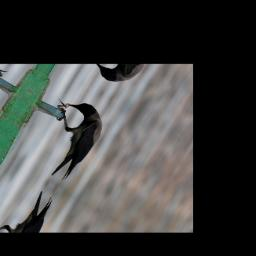Crow: (26, 93, 113, 187)
